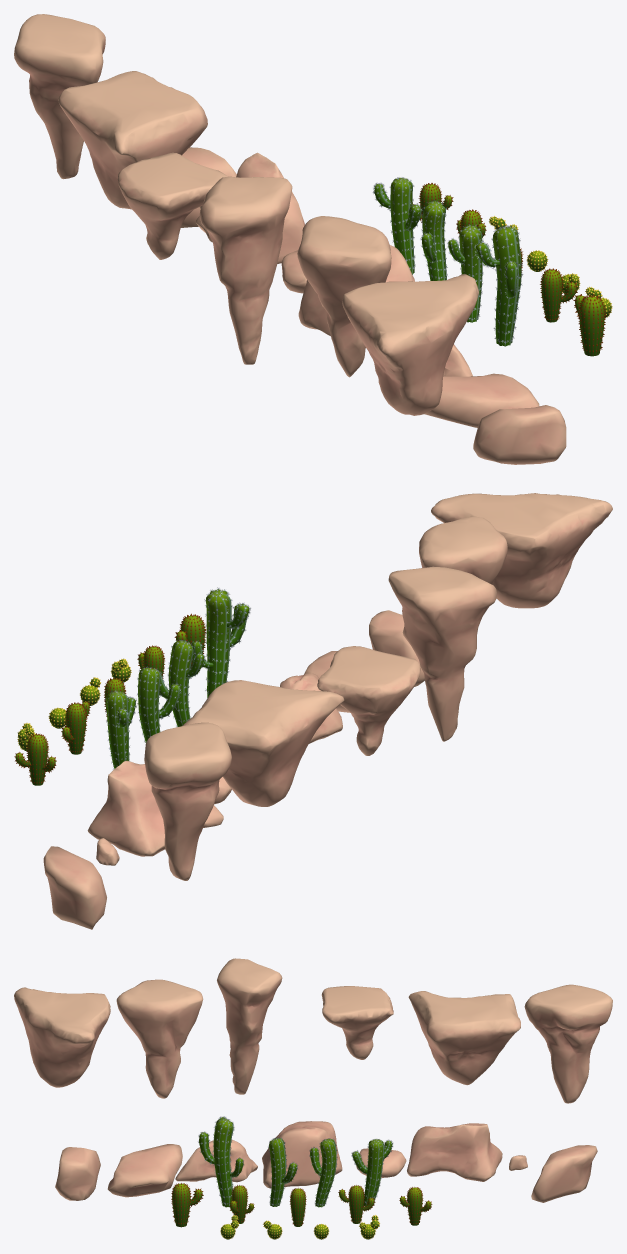
The picture shows the model from 3 angles, top to bottom: view 1: azimuth 30°, elevation 25°; view 2: azimuth 150°, elevation 25°; view 3: azimuth 270°, elevation 25°; orthographic projection. The views are drawn at different scales.
Parts seen in each view (by area): view 1: Rock.006, Rock.007, Rock.014, Rock.011, Rock.001, Rock.005, Rock.019, Rock.021, Sphere.016, Sphere.009, Rock.004, Sphere.020 (+6 smaller); view 2: Rock.007, Rock.006, Rock.014, Rock.011, Rock.005, Rock.004, Rock.001, Rock.018, Sphere.016, Sphere.015, Sphere.020, Sphere.009 (+5 smaller); view 3: Rock.007, Rock.006, Rock.011, Rock.001, Rock.014, Rock.004, Rock.005, Rock.021, Rock.003, Rock.018, Rock.019, Sphere.016 (+10 smaller).
Boxes of the visible parts, bbox=[...] form: Rock.006: bbox=[342, 274, 478, 415]; Rock.007: bbox=[58, 71, 207, 209]; Rock.014: bbox=[199, 176, 292, 364]; Rock.011: bbox=[14, 14, 105, 179]; Rock.001: bbox=[297, 216, 391, 377]; Rock.005: bbox=[117, 152, 227, 259]; Rock.019: bbox=[473, 405, 566, 464]; Rock.021: bbox=[424, 373, 539, 427]; Sphere.016: bbox=[474, 225, 522, 346]; Sphere.009: bbox=[373, 177, 422, 274]; Rock.004: bbox=[195, 152, 304, 263]; Sphere.020: bbox=[420, 199, 447, 280]; Rock.007: bbox=[182, 680, 344, 806]; Rock.006: bbox=[431, 493, 612, 608]; Rock.014: bbox=[388, 566, 496, 741]; Rock.011: bbox=[144, 722, 231, 880]; Rock.005: bbox=[317, 646, 420, 755]; Rock.004: bbox=[87, 760, 223, 856]; Rock.001: bbox=[419, 516, 507, 584]; Rock.018: bbox=[43, 846, 106, 929]; Sphere.016: bbox=[191, 587, 250, 699]; Sphere.015: bbox=[155, 639, 205, 726]; Sphere.020: bbox=[137, 666, 181, 742]; Sphere.009: bbox=[105, 690, 136, 769]; Rock.007: bbox=[408, 991, 520, 1085]; Rock.006: bbox=[14, 987, 110, 1087]; Rock.011: bbox=[524, 984, 612, 1103]; Rock.001: bbox=[116, 979, 203, 1098]; Rock.014: bbox=[217, 958, 282, 1094]; Rock.004: bbox=[407, 1123, 502, 1181]; Rock.005: bbox=[321, 986, 393, 1059]; Rock.021: bbox=[107, 1144, 182, 1197]; Rock.003: bbox=[262, 1121, 342, 1188]; Rock.018: bbox=[531, 1145, 597, 1202]; Rock.019: bbox=[55, 1147, 100, 1200]; Sphere.016: bbox=[198, 1116, 244, 1207].
Size of the model in its own units: 2877 by 1561 by 5129.
Materials: 6 (4 with a texture image).
